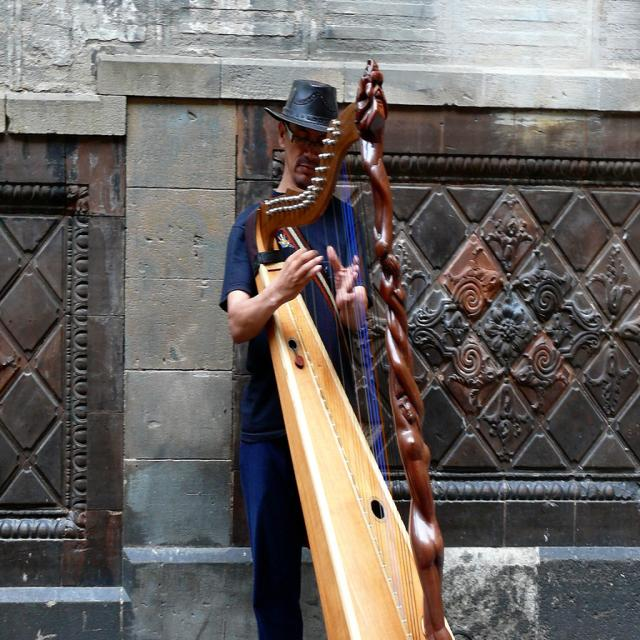harp: (252, 55, 458, 639)
